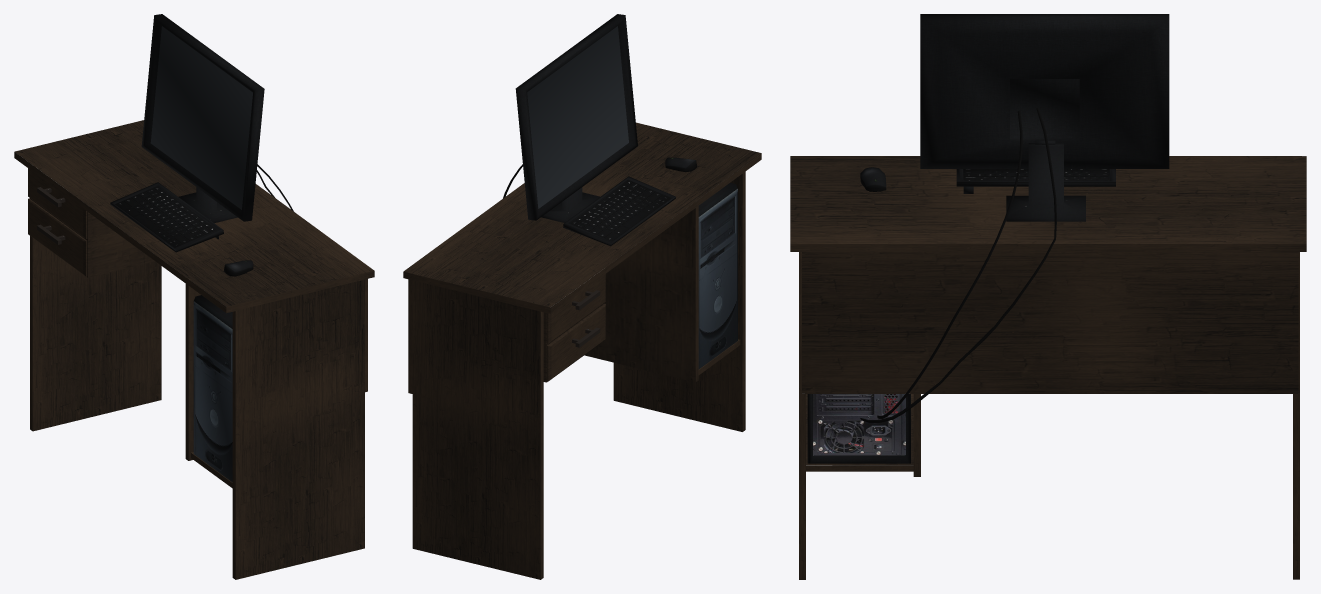
The model's file is FPH_NewComputer.fbx.
The picture shows the model from 3 angles, left to right: view 1: azimuth 30°, elevation 25°; view 2: azimuth 150°, elevation 25°; view 3: azimuth 270°, elevation 25°; orthographic projection. The views are drawn at different scales.
Visible parts, largest first — view 1: FPH_ComputerDesk, FPH_NewComputer, FPH_ComputerDeskDrawer2, FPH_ComputerDeskDrawer1; view 2: FPH_ComputerDesk, FPH_NewComputer, FPH_ComputerDeskDrawer2, FPH_ComputerDeskDrawer1; view 3: FPH_ComputerDesk, FPH_NewComputer.
Part boxes in pixels (left/top/right/bottom): FPH_ComputerDesk: left=14, top=120, right=374, bottom=579; FPH_NewComputer: left=110, top=14, right=293, bottom=482; FPH_ComputerDeskDrawer2: left=28, top=198, right=87, bottom=276; FPH_ComputerDeskDrawer1: left=28, top=168, right=87, bottom=238; FPH_ComputerDesk: left=403, top=122, right=761, bottom=579; FPH_NewComputer: left=503, top=14, right=737, bottom=369; FPH_ComputerDeskDrawer2: left=547, top=304, right=605, bottom=381; FPH_ComputerDeskDrawer1: left=547, top=274, right=605, bottom=343; FPH_ComputerDesk: left=790, top=156, right=1306, bottom=579; FPH_NewComputer: left=807, top=14, right=1169, bottom=463.
Size of the model in its own units: 2.79 by 7.13 by 6.28.
